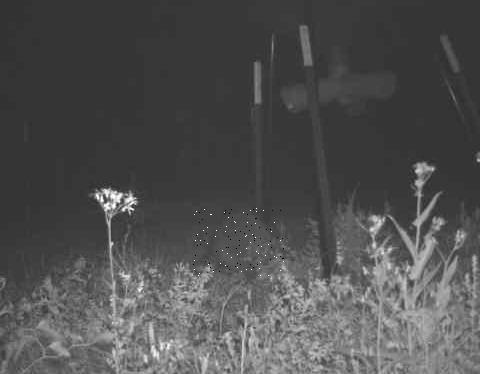Raccoon: (194, 209, 285, 277)
